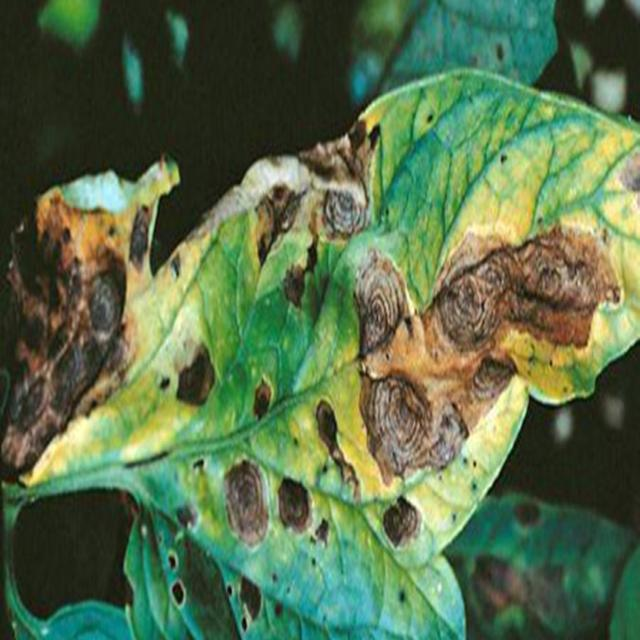earlyblight: (356, 227, 620, 482), (1, 160, 179, 475), (170, 110, 381, 277), (316, 401, 360, 498), (225, 460, 268, 546), (176, 346, 215, 405), (382, 496, 420, 546), (279, 479, 310, 532), (284, 265, 306, 308), (252, 377, 272, 420)
